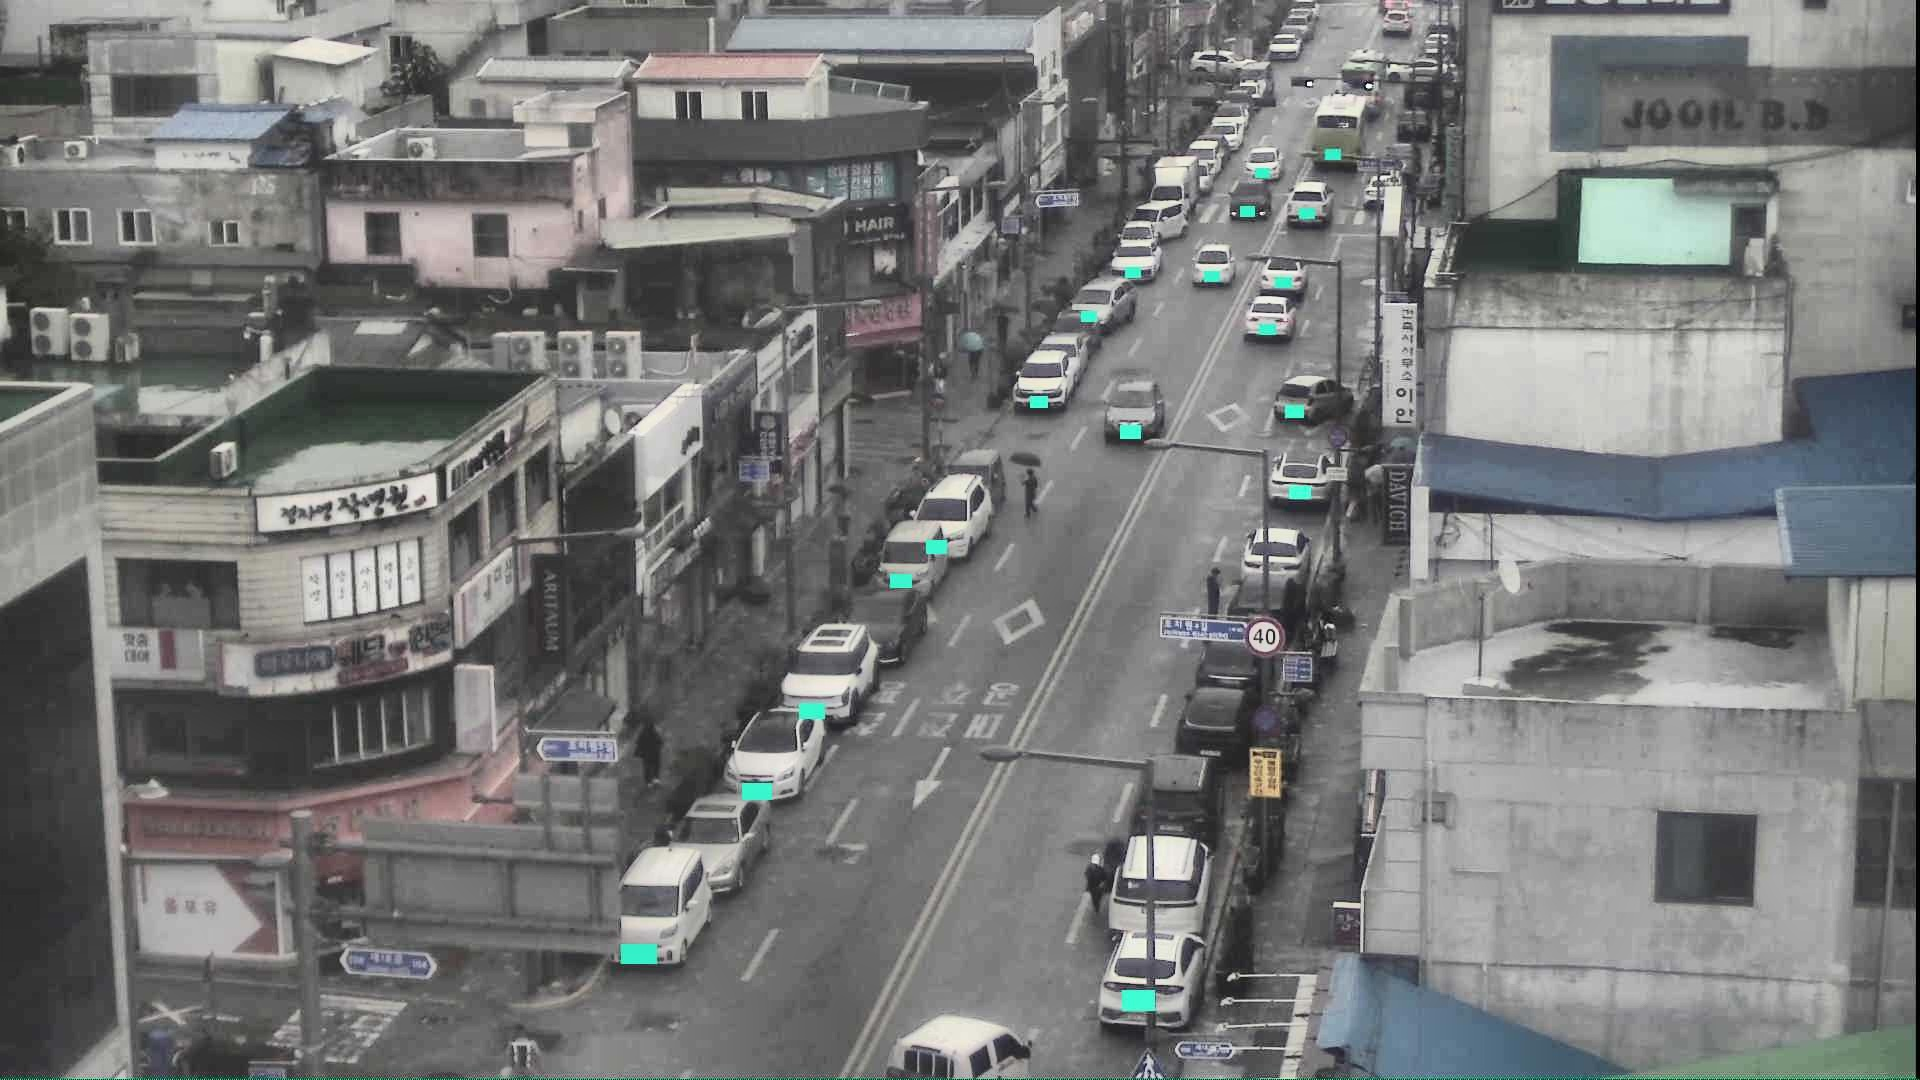jaywalk: (502, 1023, 549, 1075), (1084, 855, 1108, 914), (1204, 566, 1222, 620)
um_jaywalk: (1006, 450, 1044, 518)
um_sidewalk: (626, 705, 665, 790), (828, 479, 857, 541), (985, 299, 1023, 344), (955, 328, 982, 385), (1365, 465, 1385, 521)
